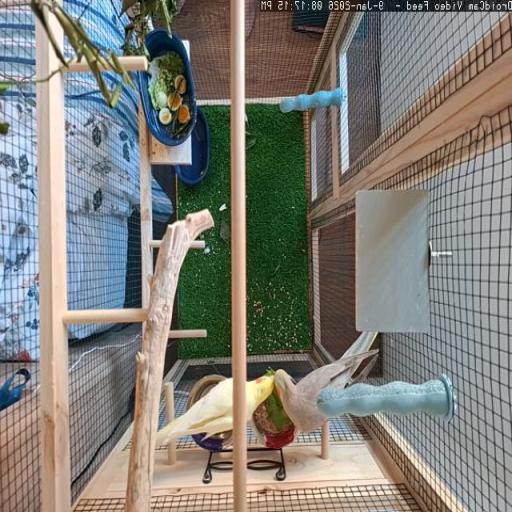bebedero: (186, 374, 226, 409), (194, 431, 231, 451)
comedero: (252, 390, 298, 448)
ninfa: (243, 333, 378, 431), (156, 379, 234, 446)
